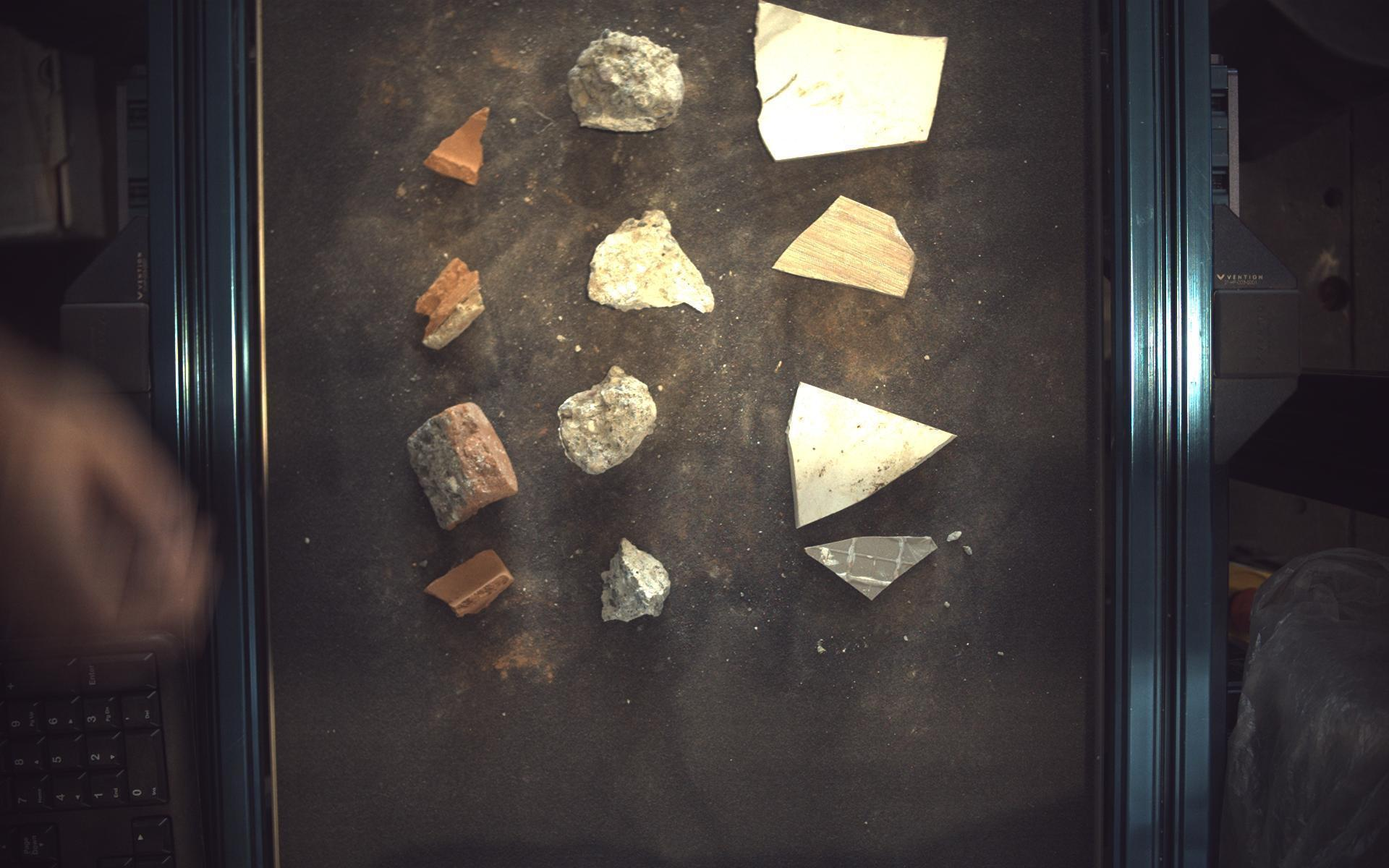brick: (407, 402, 518, 530), (415, 258, 485, 350), (425, 550, 514, 618), (425, 106, 490, 184)
concrete: (588, 210, 715, 312), (569, 28, 685, 131), (558, 365, 658, 475), (602, 539, 671, 623)
tile: (756, 2, 949, 160), (789, 382, 958, 527), (775, 195, 917, 297), (807, 537, 939, 600)
